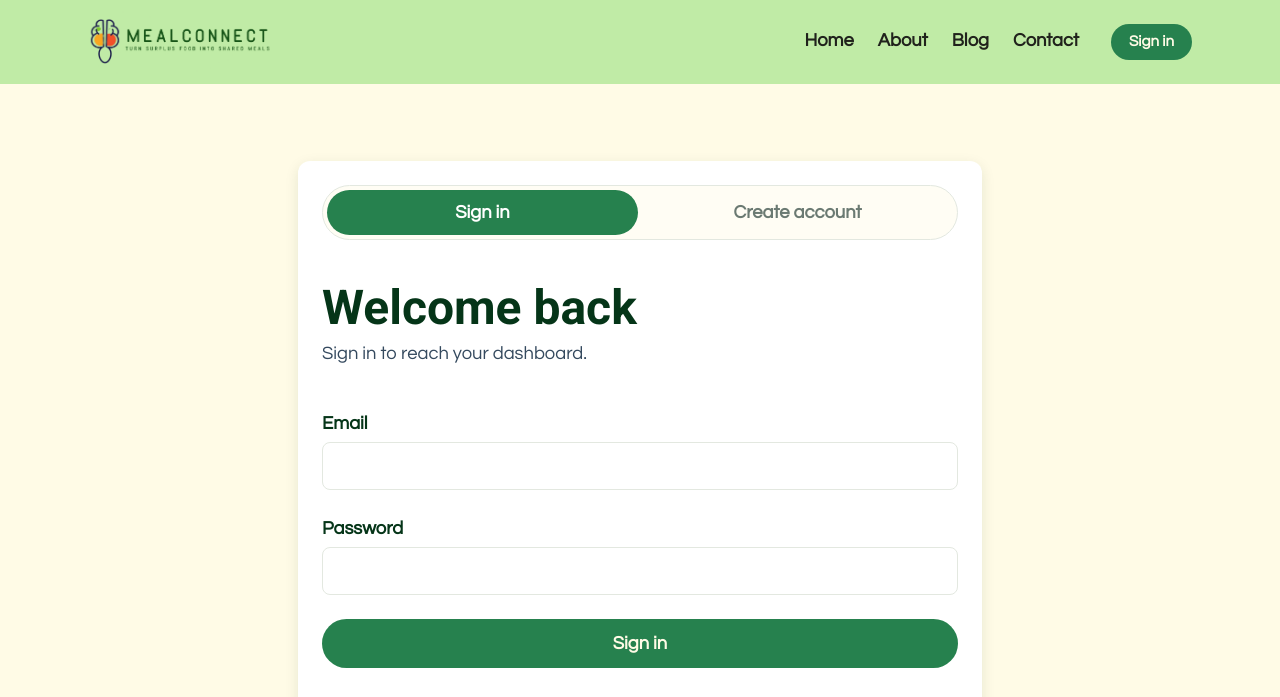
Scenario: login page › a failed sign in surfaces the error
Step 1. Type "chef@example.com" into the field labelled "Email" → (640, 466), box [322,442,958,490]
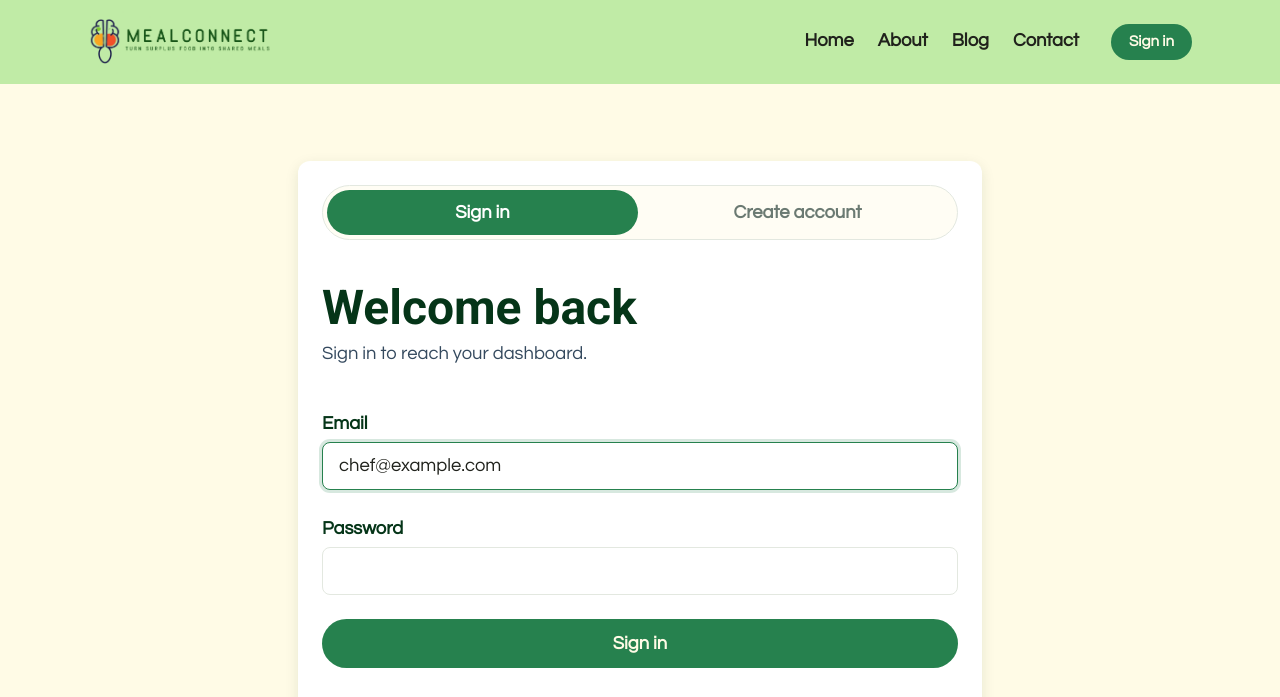
Step 2. Type "wrongpassword" into the password field labelled "Password" → (640, 571), box [322,547,958,595]
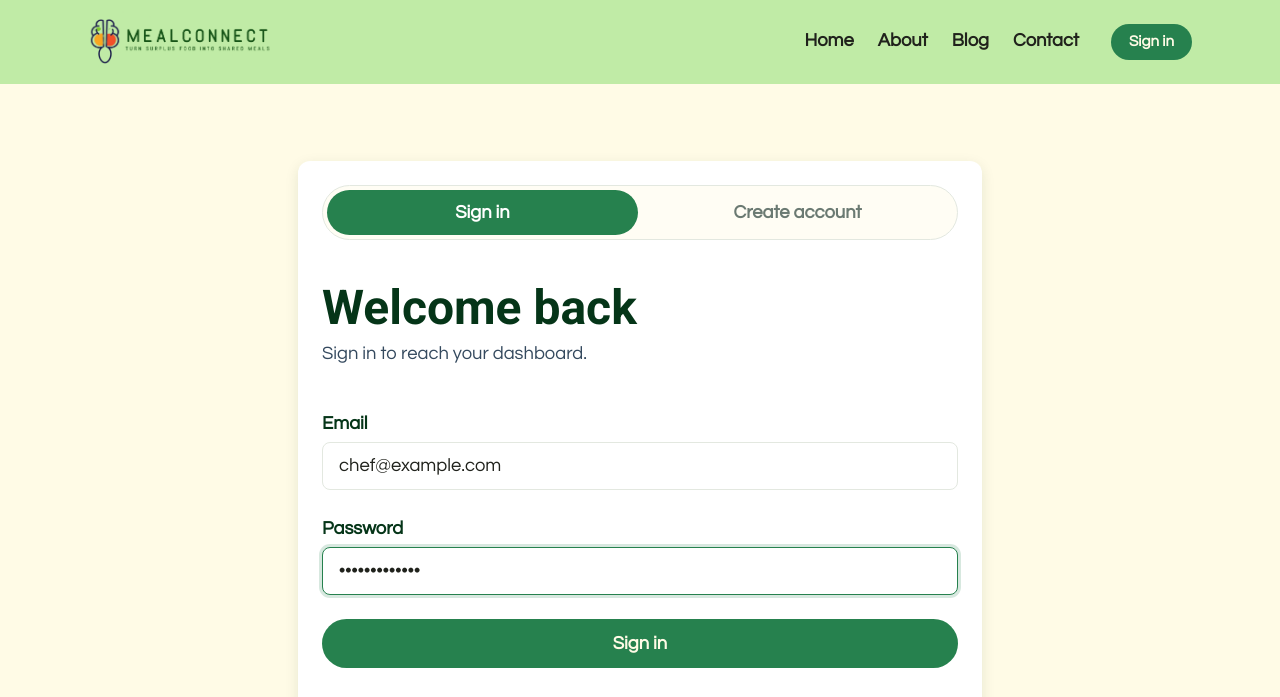
Step 3. Click the button "Sign in" → (640, 643), box [322,619,958,668]
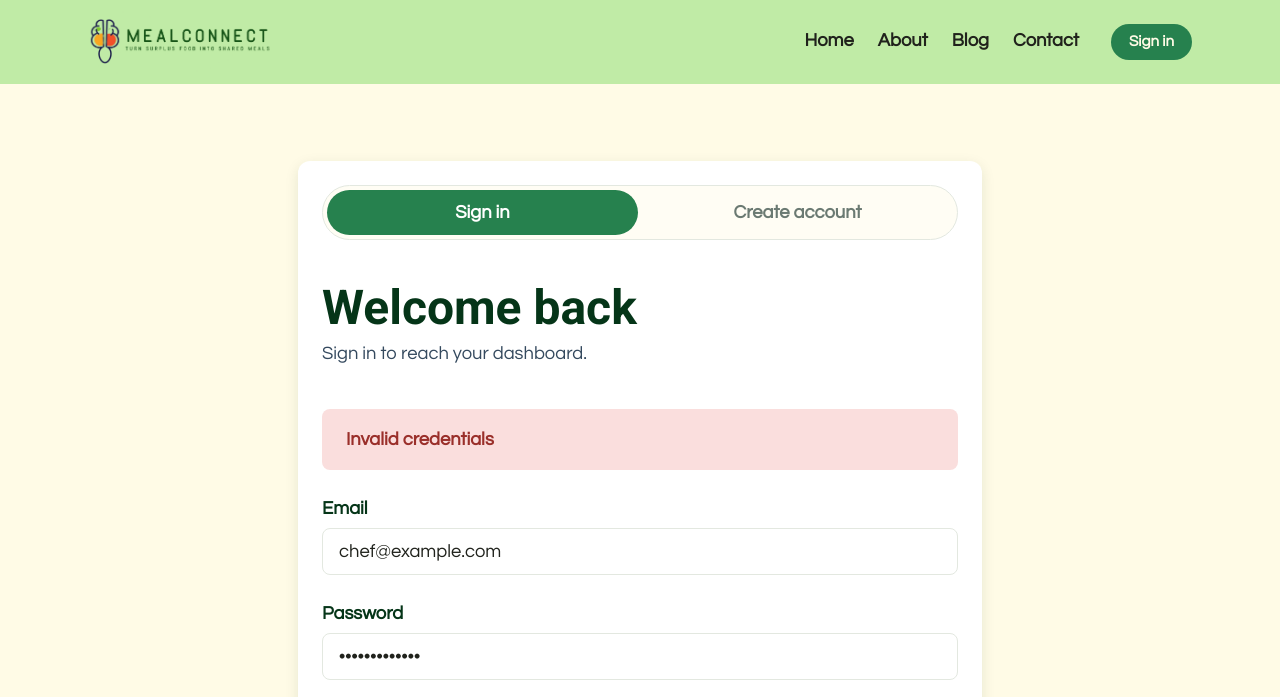
Now the message reads "Invalid credentials", box [346,430,494,449]
